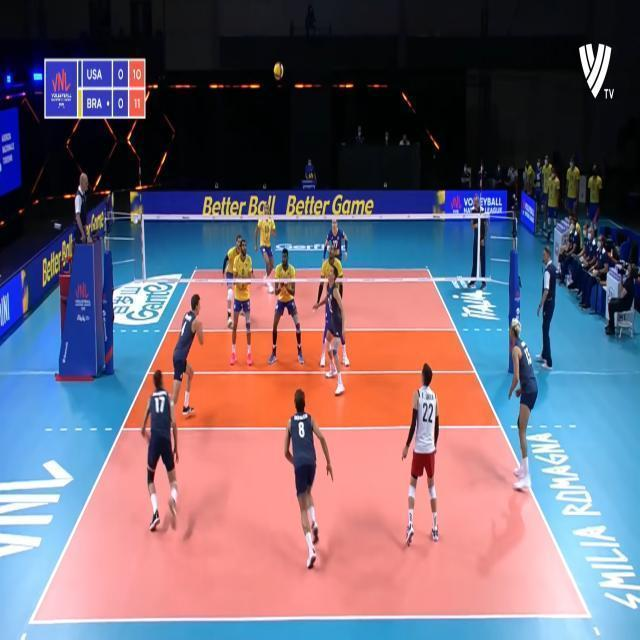volleyball: (274, 62, 284, 80)
